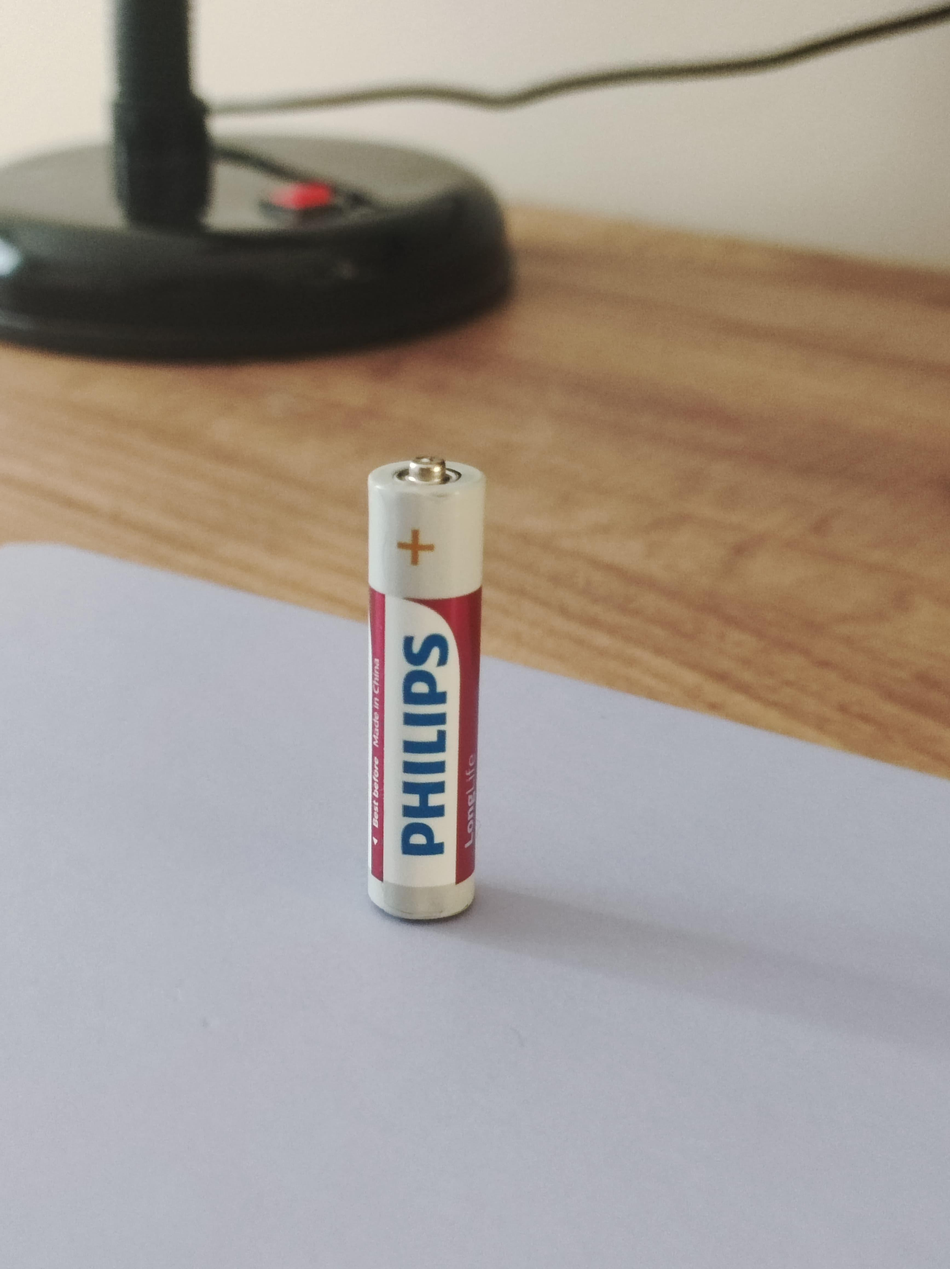AAA: (364, 454, 486, 921)
